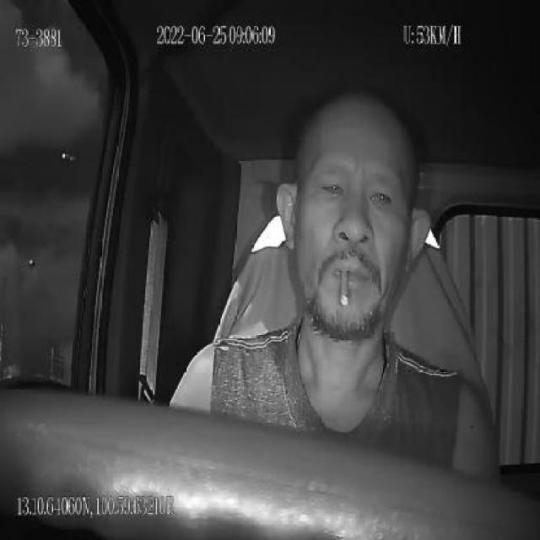smoking: (338, 265, 350, 308)
